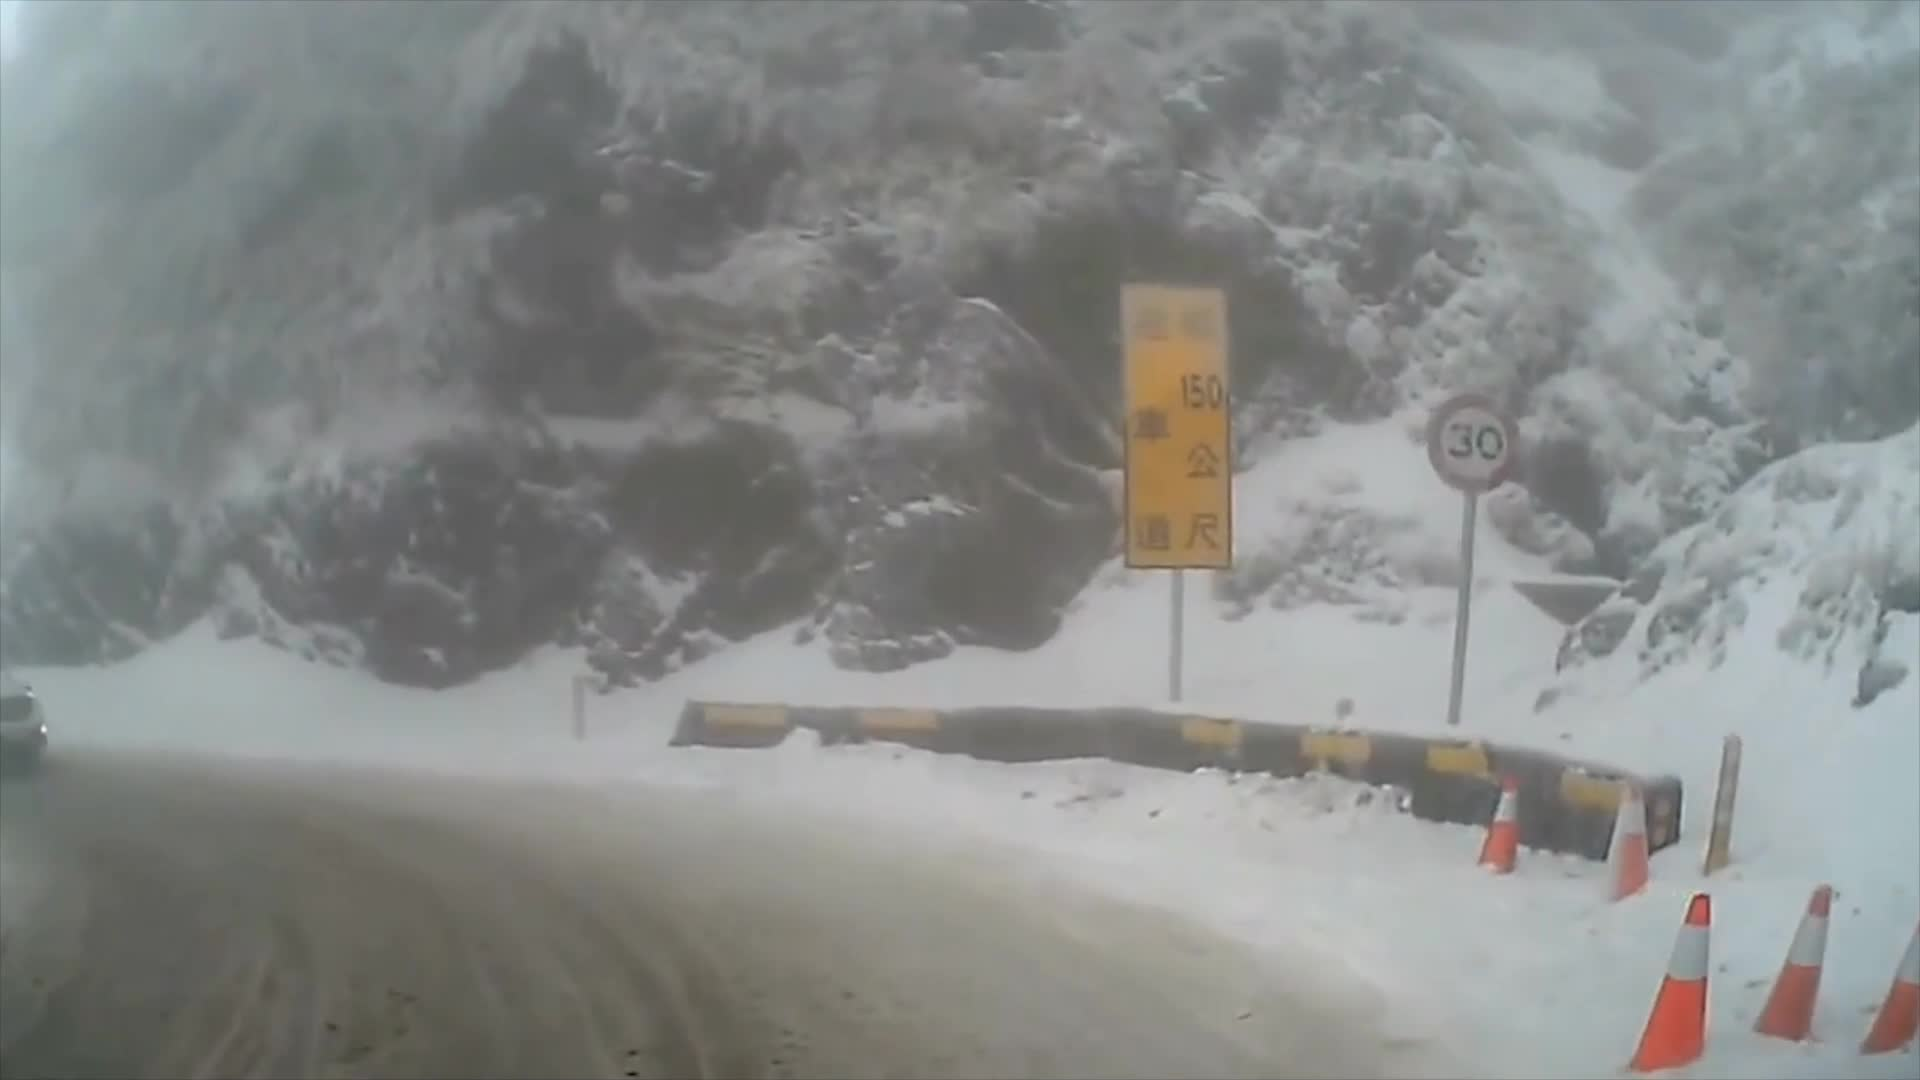vehicle: (0, 670, 45, 767)
